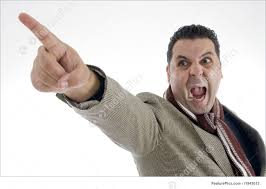hand: (11, 4, 99, 107)
